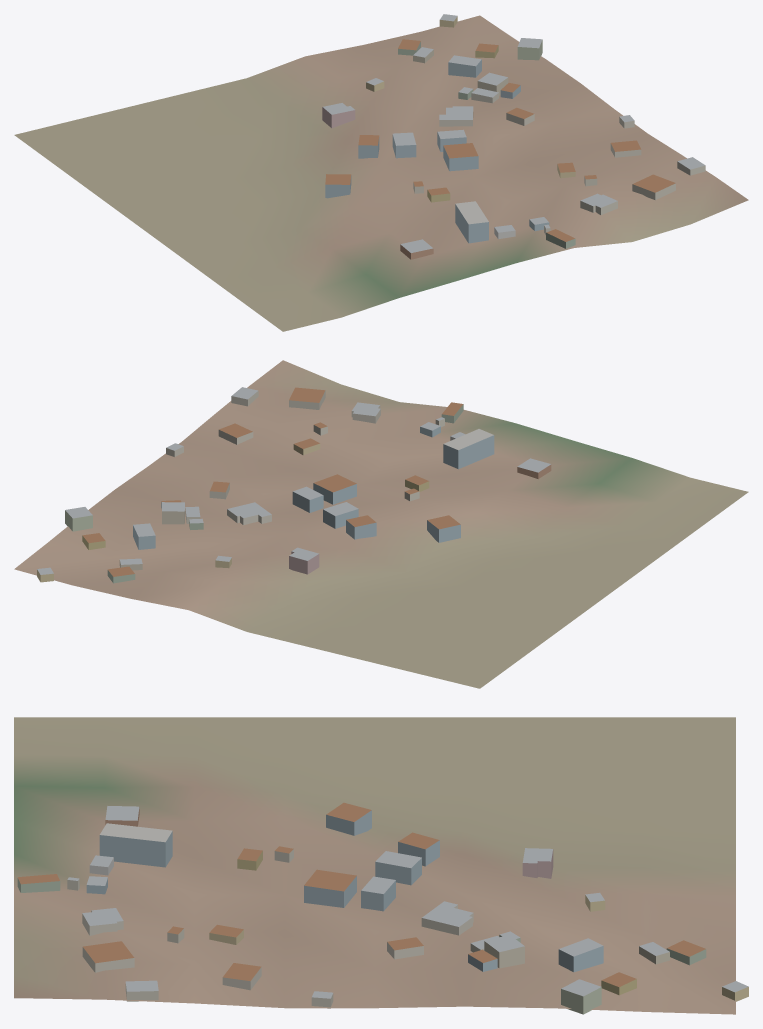
3 views of the same model, one above another, from view 1: azimuth 30°, elevation 25°; view 2: azimuth 150°, elevation 25°; view 3: azimuth 270°, elevation 25° (orthographic). The views are drawn at different scales.
Visible parts, largest first — view 1: Lo; view 2: Lo; view 3: Lo.
Boxes of the visible parts, x1=… form: Lo: x1=14, y1=14, x2=748, y2=331; Lo: x1=14, y1=360, x2=748, y2=688; Lo: x1=14, y1=717, x2=748, y2=1014.
Bounding box in the file's own units: 259 × 14.95 × 261.
